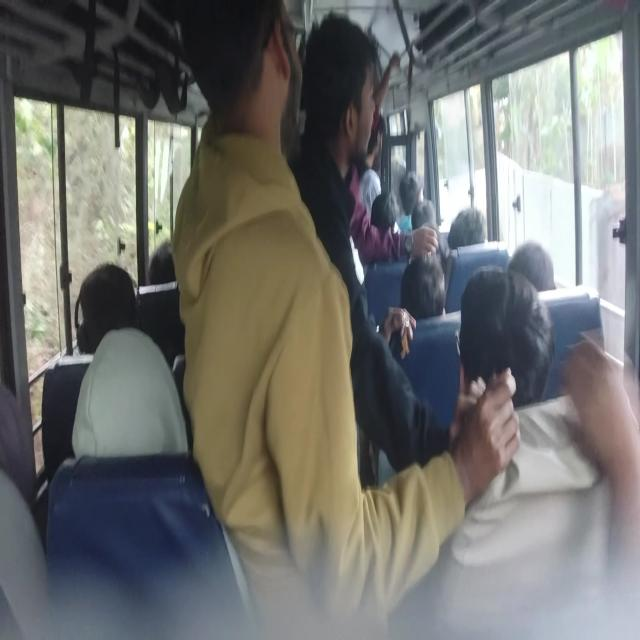person: (184, 0, 305, 282), (455, 276, 576, 466), (84, 324, 188, 469), (323, 23, 371, 169), (0, 384, 32, 534), (75, 258, 130, 337), (139, 215, 193, 293), (448, 197, 525, 245), (397, 266, 443, 318), (513, 240, 553, 295), (372, 197, 409, 247), (408, 200, 449, 238), (367, 93, 382, 168), (397, 172, 423, 210)
